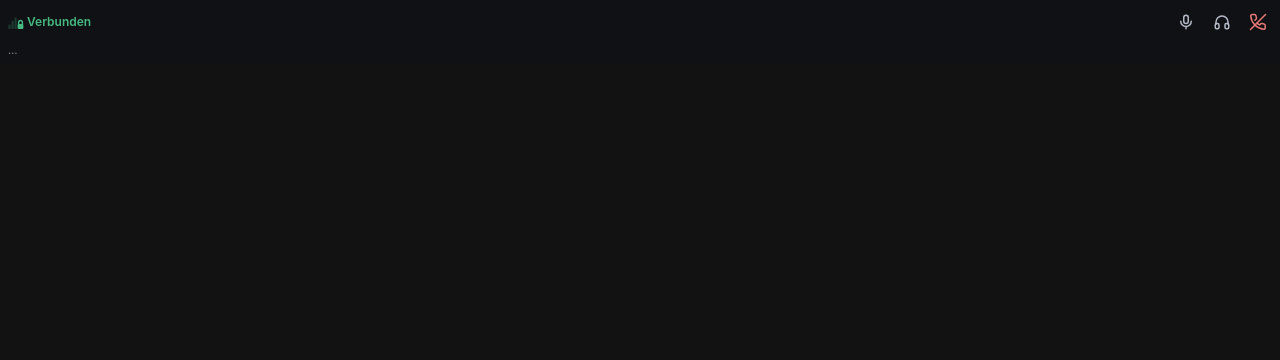
Scenario: VoiceBar quick menus › right-click on the microphone opens its menu without muting; a microphone applies to the settings
Press the mouse on the button with test id "voice-bar-mute" at (1186, 22), box x1=1168 y1=4 x2=1204 y2=40
Right-click the button with test id "voice-bar-mute".
right_click(1186, 22)  # box x1=1168 y1=4 x2=1204 y2=40
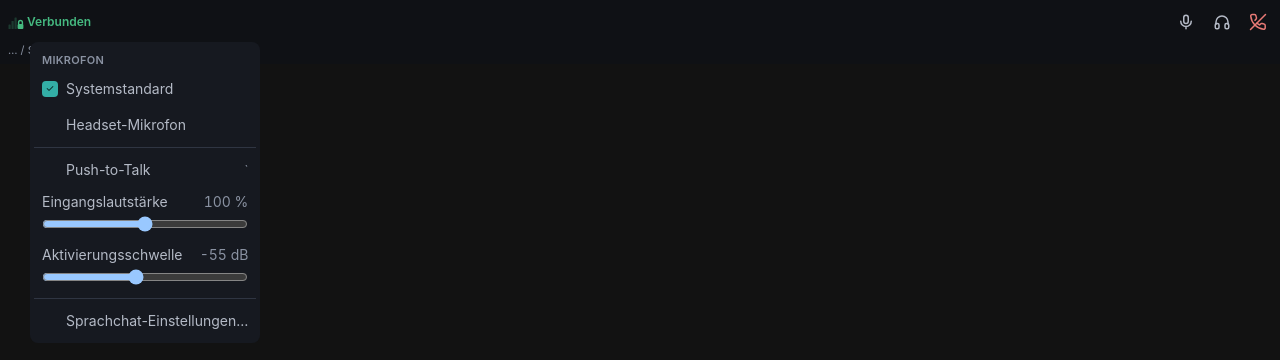
Expected: the text "Mikrofon" is shown, x1=42 y1=53 x2=104 y2=67
Click the menu item "Headset-Mikrofon".
click(145, 124)  # box x1=34 y1=106 x2=256 y2=142
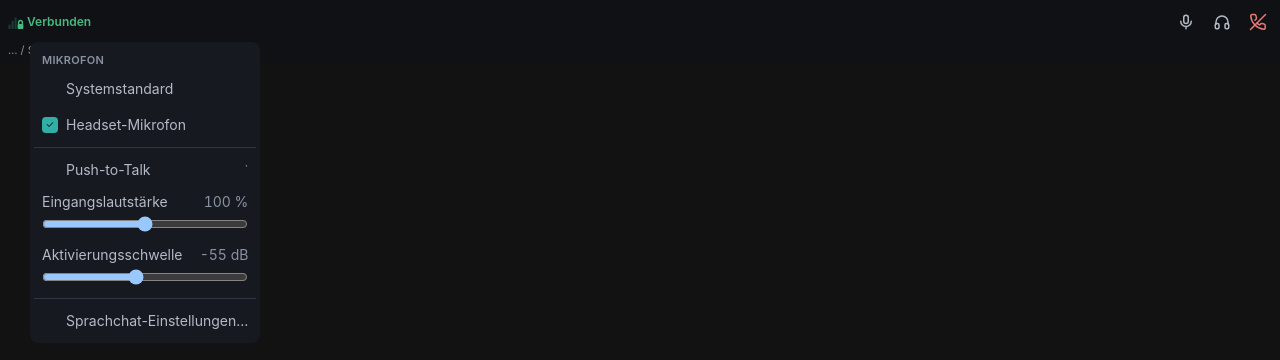
Expected: the menu item "✓ Headset-Mikrofon" is checked, x1=34 y1=106 x2=256 y2=142
Expected: the menu item "Systemstandard" is not checked, x1=34 y1=70 x2=256 y2=106
Click the button with test id "voice-bar-mute".
click(1186, 22)  # box x1=1168 y1=4 x2=1204 y2=40
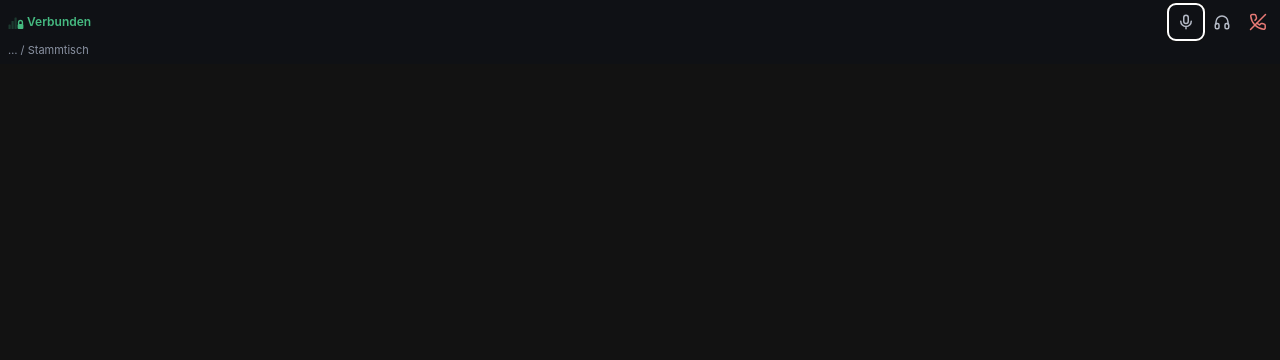
Expected: the menu is gone
